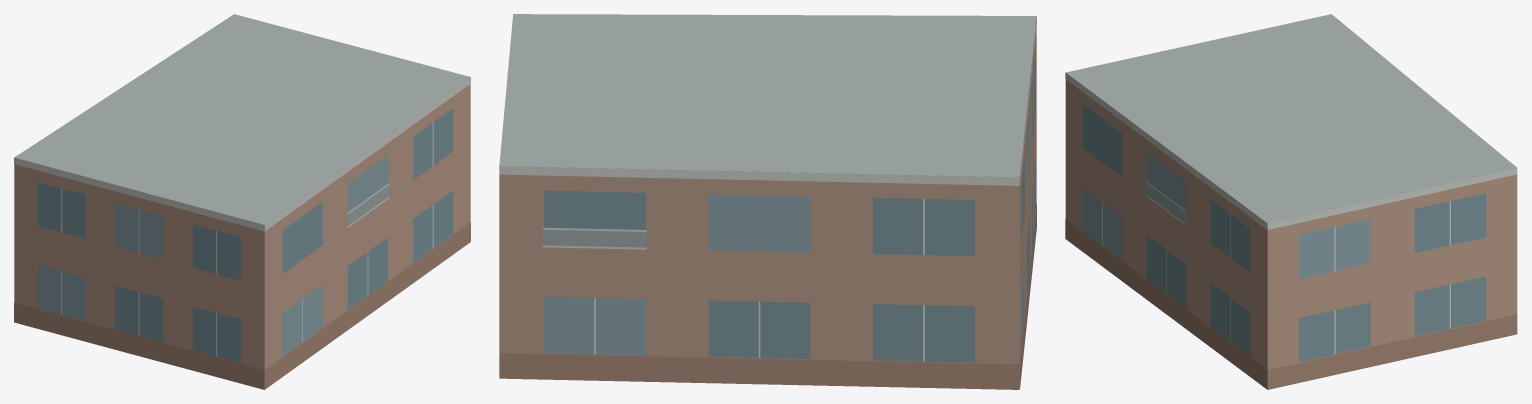
File: survey-upis-32657994.glb
The picture shows the model from 3 angles, left to right: view 1: azimuth 30°, elevation 25°; view 2: azimuth 150°, elevation 25°; view 3: azimuth 270°, elevation 25°; orthographic projection. The views are drawn at different scales.
Parts seen in each view (by area): view 1: survey-upis-32657994.tmp; view 2: survey-upis-32657994.tmp; view 3: survey-upis-32657994.tmp.
Part boxes in pixels (x1,y1,x2,y2): survey-upis-32657994.tmp: [14, 14, 470, 389]; survey-upis-32657994.tmp: [499, 14, 1036, 389]; survey-upis-32657994.tmp: [1065, 14, 1517, 389].
Bounding box in the file's own units: 16.46 × 6.1 × 15.01.
